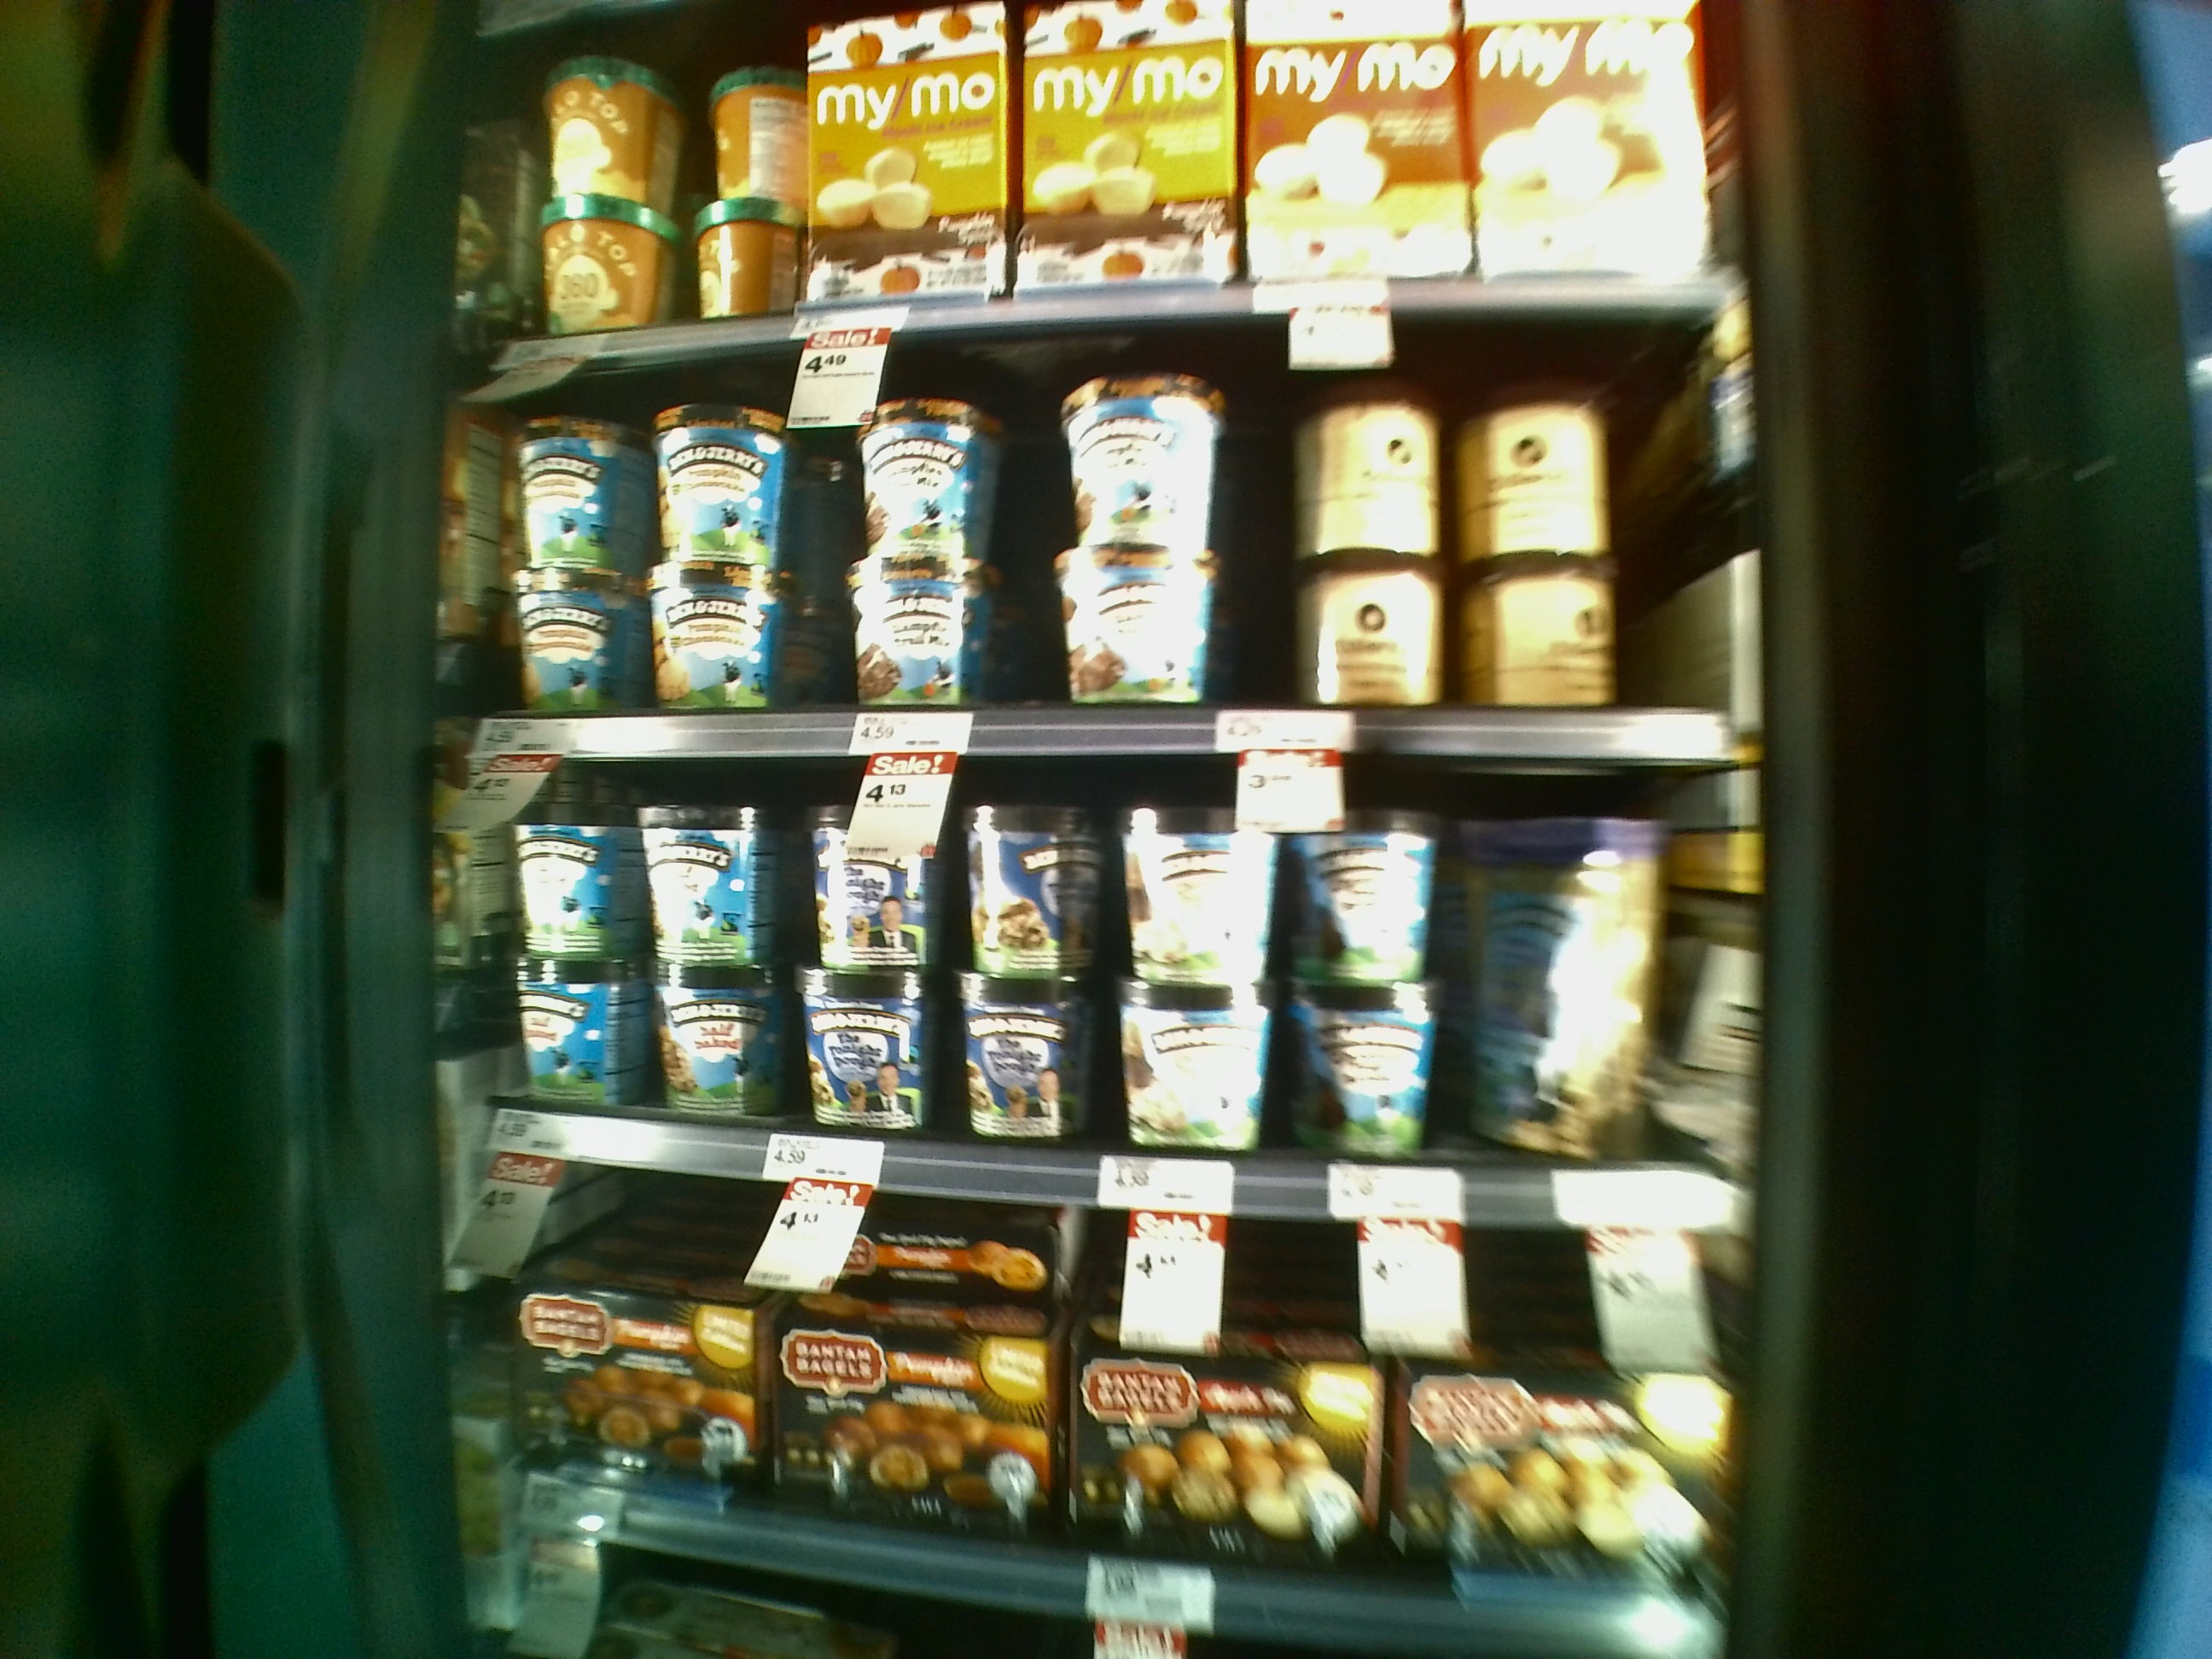shelf: (469, 727, 1726, 1230), (469, 333, 1759, 774)
